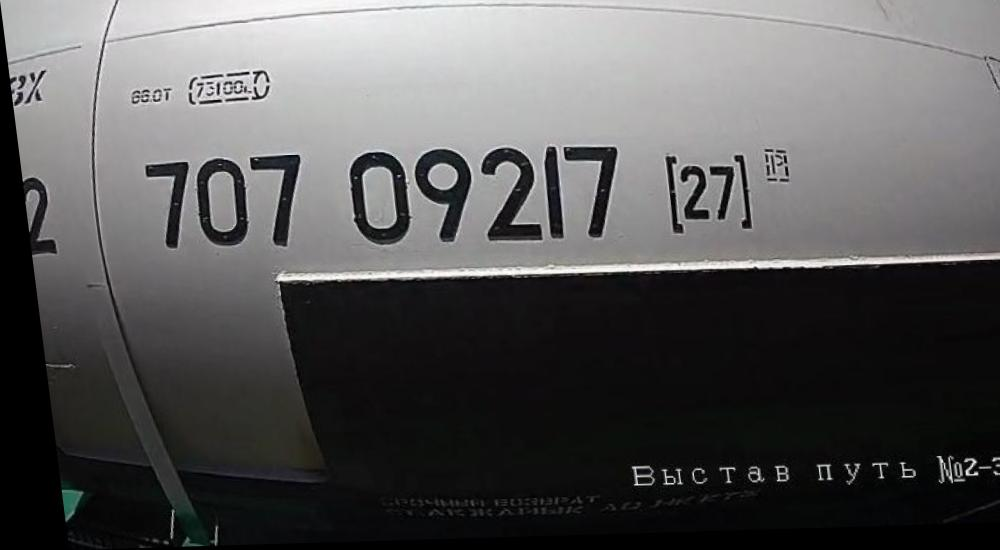Wagon-number: (133, 140, 627, 257)
